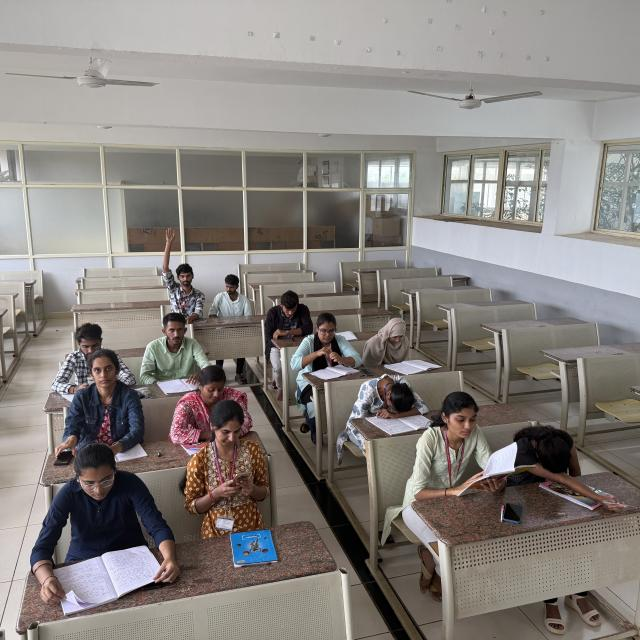Hand Rising: (148, 222, 213, 324)
Reading: (29, 446, 172, 640), (412, 362, 520, 506), (363, 306, 446, 383)
Sleeping: (507, 410, 602, 498), (324, 365, 435, 425)
Using Phone: (42, 354, 150, 466), (185, 402, 280, 524)
